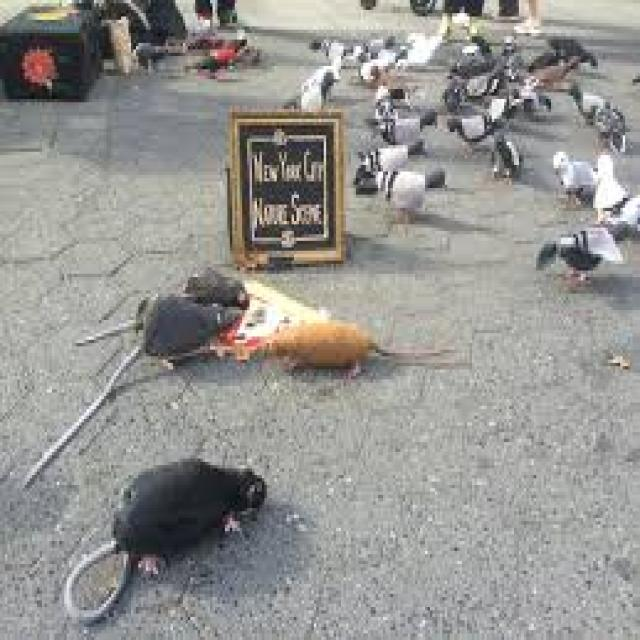rat: (62, 452, 267, 623)
